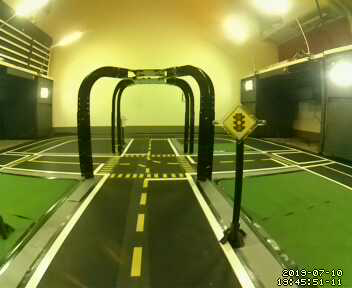Traffic light sign: (222, 105, 257, 142)
